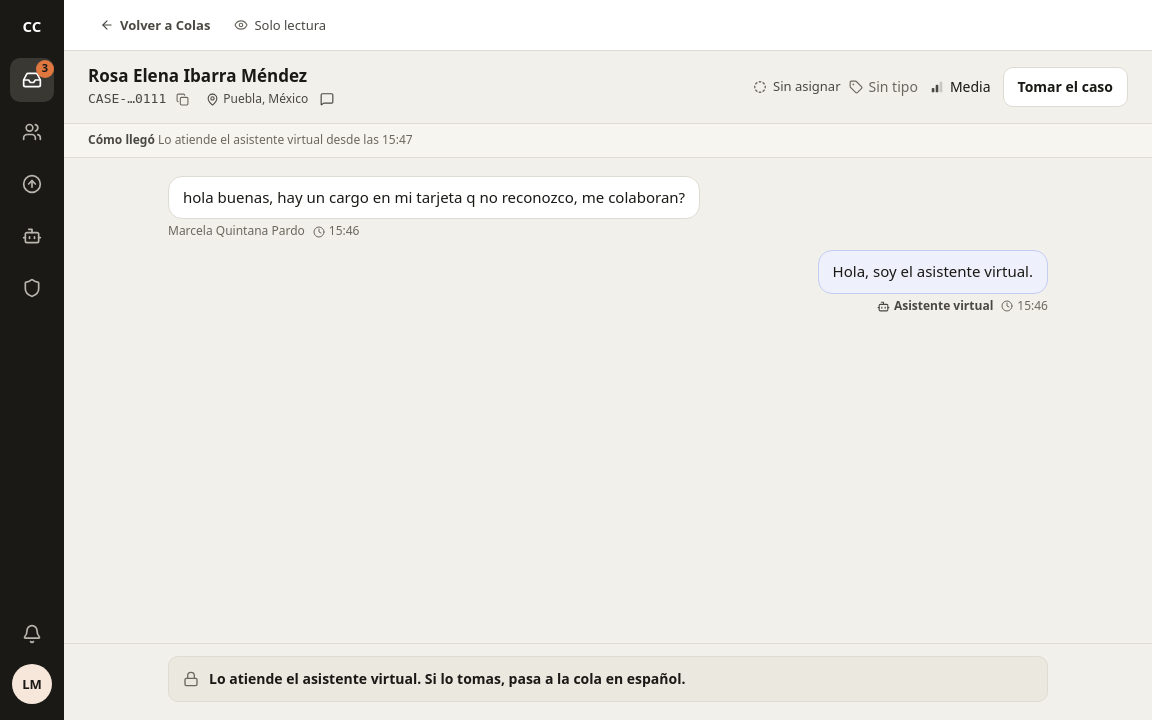
supervisor case view of a case the assistant holds (slice 19) › shows the assistant's turns, explains who holds it and takes it
expect the text "Hola, soy el asistente virtual." is shown: met, box [818, 250, 1048, 294]
expect the text "Cómo llegó Lo atiende el asistente virtual desde las 15:47" is shown: met, box [88, 132, 413, 149]
Click the button "Tomar el caso" at (1065, 87), box [1002, 67, 1128, 107]
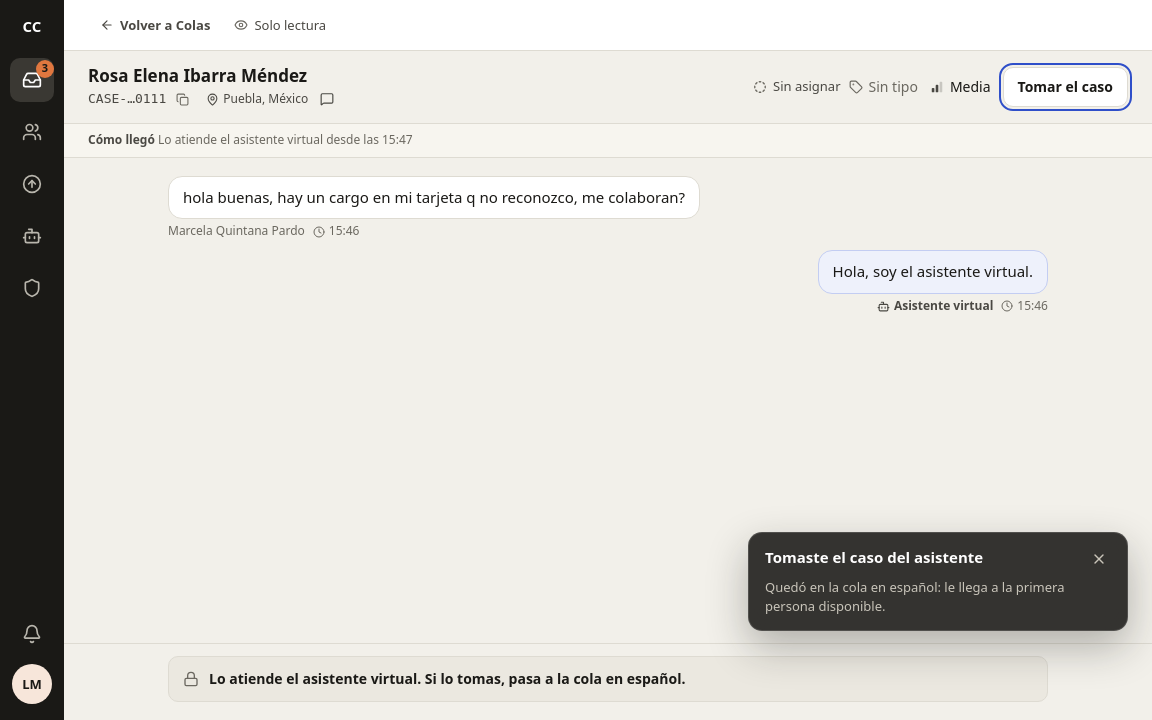
expect the text "Tomaste el caso del asistente" is shown: met, box [765, 547, 983, 567]
